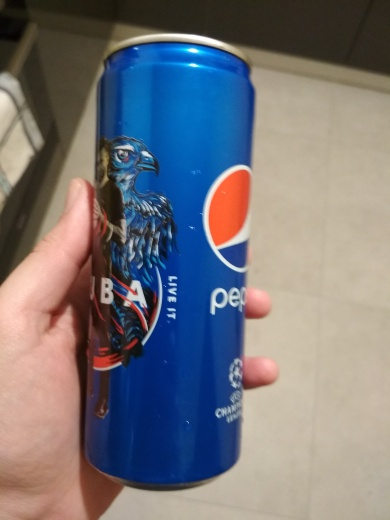pepsi: (65, 28, 260, 495)
